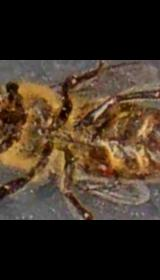varroa_mite: (99, 156, 118, 184)
